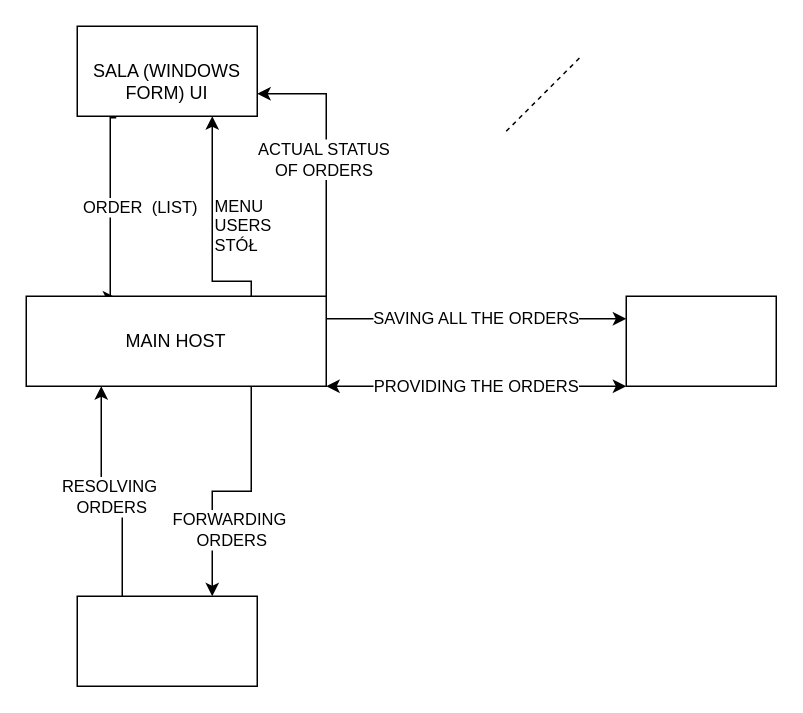
Image size: 803x713. Some labels were removed from this diagram. The shapes that lost their labels are listed below. From the top down, each one's box as (x1, y1, x2, y2) in pixels, then its label:
(625, 295, 776, 386): DATABASE
(76, 595, 257, 686): KUCHNIA (CLIENT)
